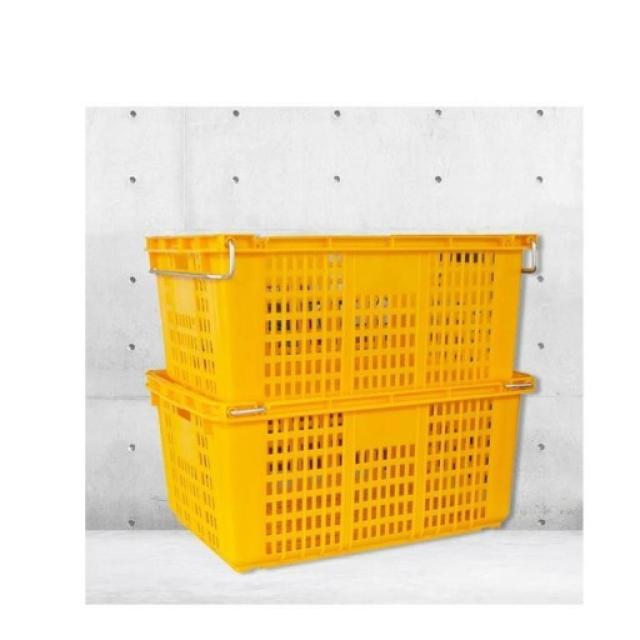basket: (147, 372, 536, 573), (147, 236, 539, 404)
